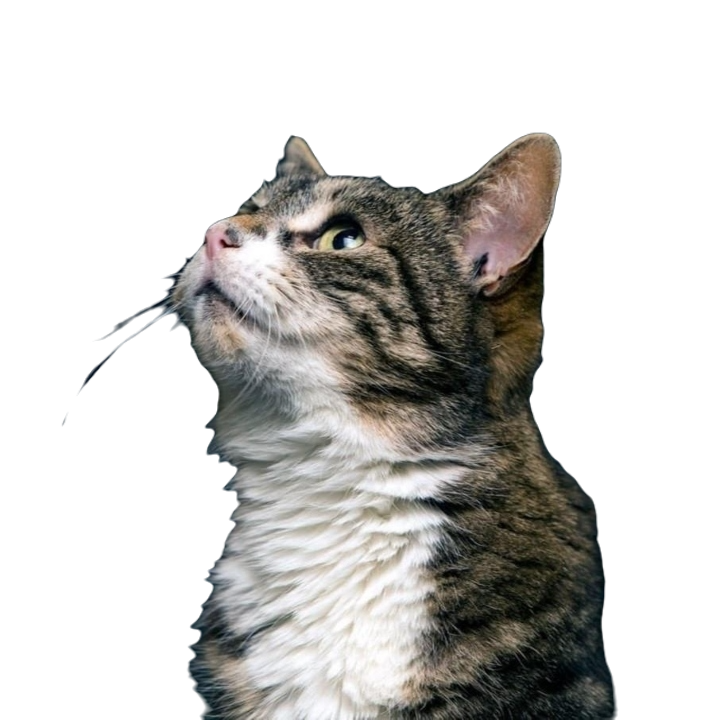Cat: (108, 129, 620, 719)
